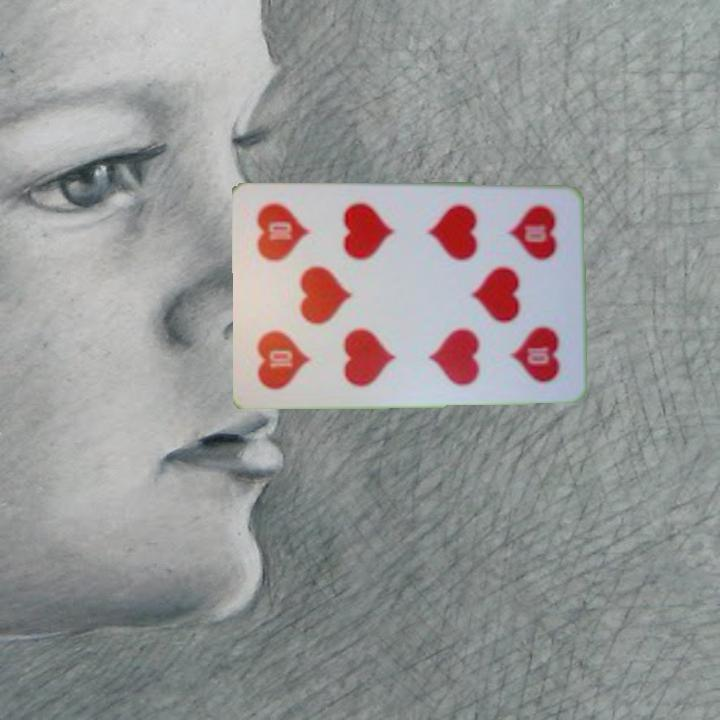h_10.png: (248, 292, 334, 393), (484, 198, 570, 298)
